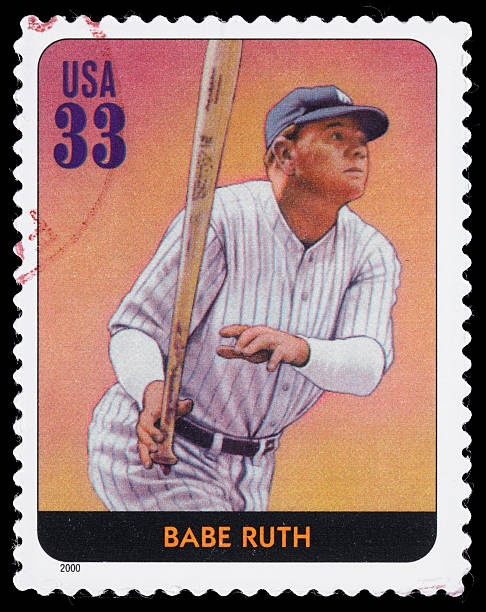bita: (152, 40, 243, 462)
